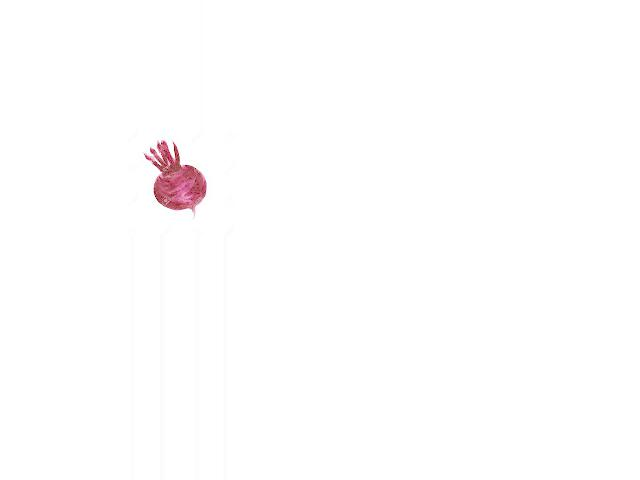beet: (144, 140, 207, 220)
